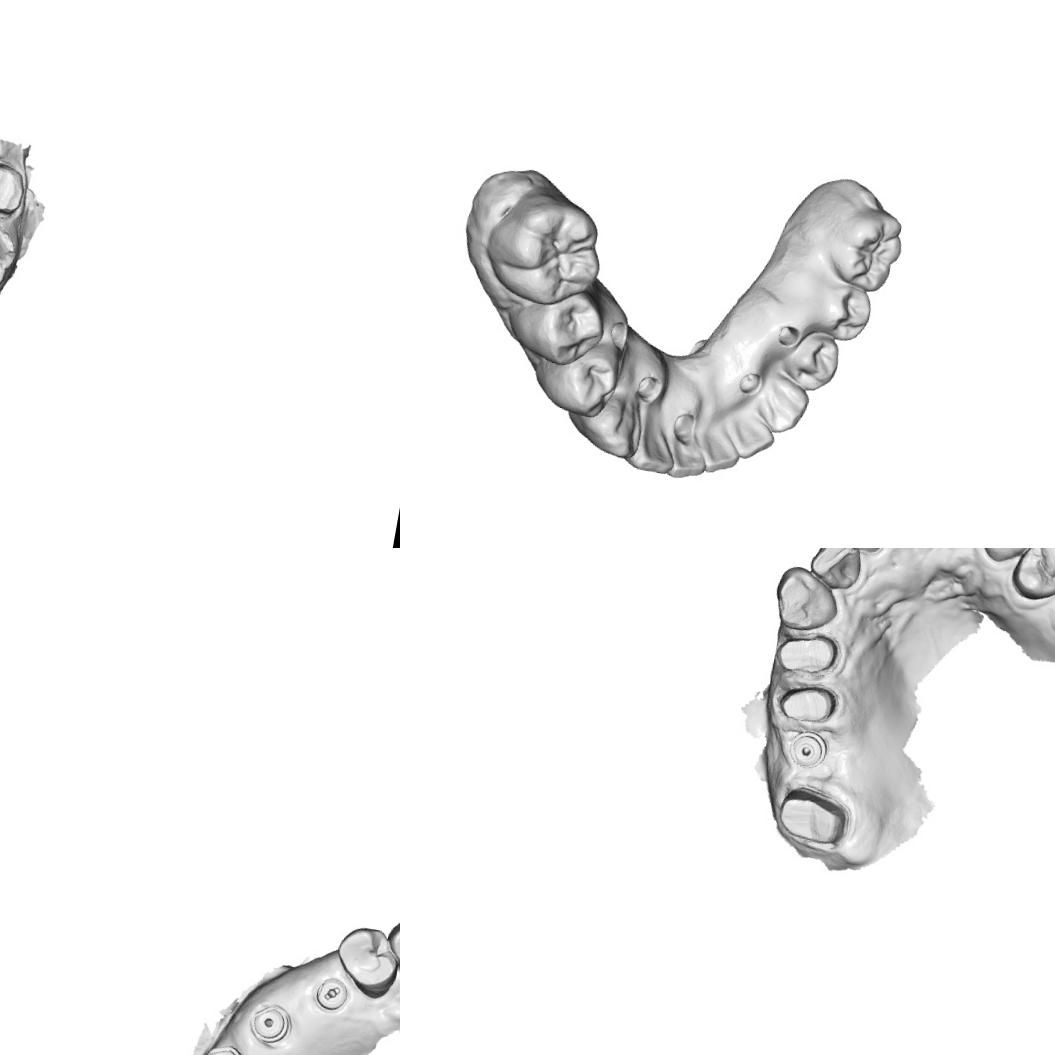canine: (768, 562, 845, 638), (575, 386, 644, 459), (749, 373, 813, 439), (973, 548, 1049, 569), (381, 908, 400, 977)
crown: (768, 778, 861, 854), (769, 624, 848, 684), (773, 674, 846, 732), (0, 154, 31, 223)
implant: (243, 999, 296, 1048), (784, 727, 830, 773)
implant_minus: (310, 974, 351, 1014), (198, 1039, 248, 1055)
incisor: (626, 412, 682, 476), (802, 548, 867, 593), (722, 414, 778, 464), (698, 423, 748, 476), (664, 432, 712, 481)
molar: (478, 185, 610, 313), (824, 202, 908, 294), (0, 211, 23, 293)
premolar: (528, 288, 606, 368), (328, 920, 400, 1002), (548, 340, 622, 418), (810, 272, 878, 345), (784, 324, 844, 394), (1006, 548, 1055, 606)
